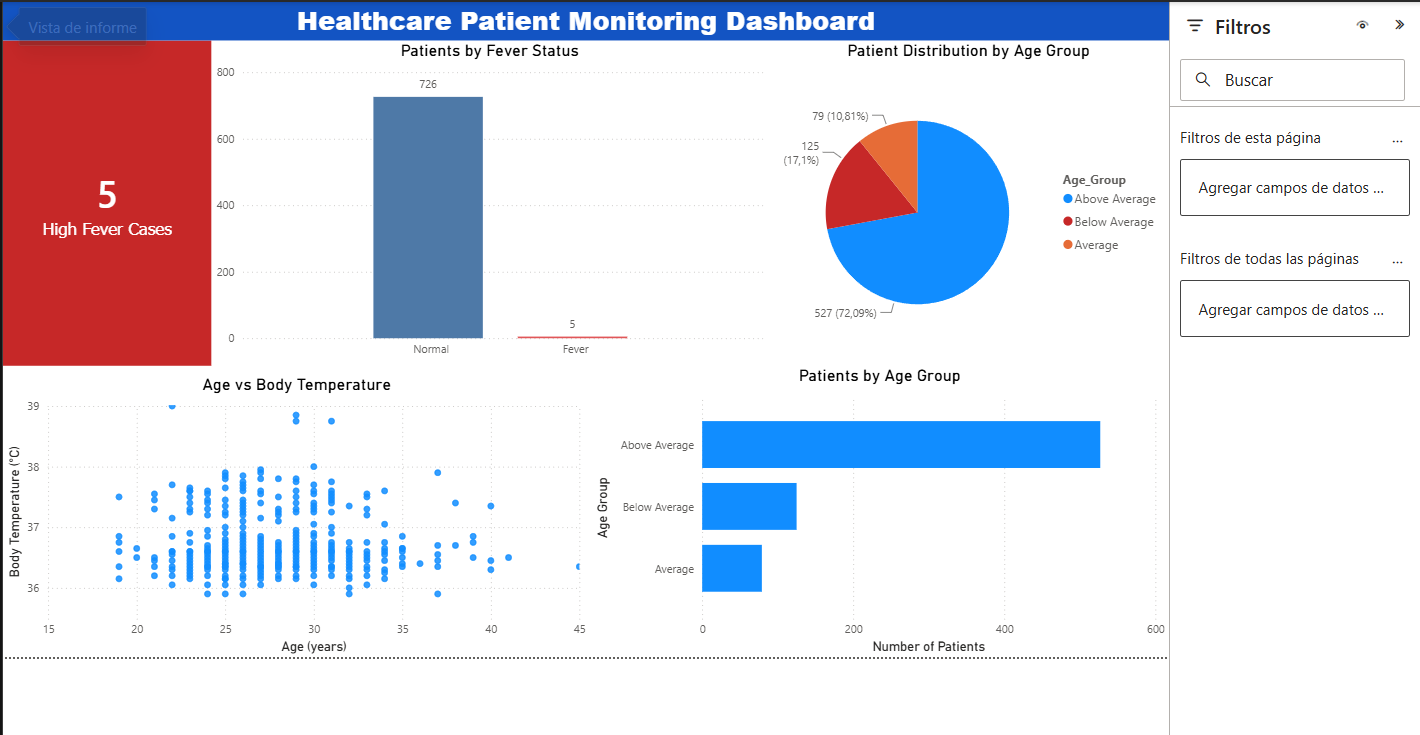

The dashboard page shown, as its layout file describes it:
{"tool":"powerbi","page":{"name":"Monitoring","canvas":[1280,720],"ordinal":0},"visuals":[{"type":"textbox","title":"Healthcare Patient Monitoring Dashboard","box":[0,0,1280.3,42.5],"z":0},{"type":"cardVisual","fields":{"Data":["Sheet1.High Fever Cases"]},"box":[0,42.5,229.2,356.8],"z":1000},{"type":"columnChart","title":"Patients by Fever Status","fields":{"Category":["Sheet1.Fever Status"],"Y":["CountNonNull(Sheet1.Patient_ID)"]},"box":[229.2,42.5,610.6,356.8],"z":2000},{"type":"pieChart","title":"Patient Distribution by Age Group","fields":{"Category":["Sheet1.Age_Group"],"Y":["CountNonNull(Sheet1.Patient_ID)"]},"box":[839.8,42.5,440.5,356.8],"z":3000},{"type":"scatterChart","title":"Age vs Body Temperature","fields":{"X":["Sheet1.Age"],"Y":["Sheet1.Average_Temperature"]},"box":[0,408.9,644.9,311.5],"z":4000},{"type":"clusteredBarChart","title":"Patients by Age Group","fields":{"Category":["Sheet1.Age_Group"],"Y":["CountNonNull(Sheet1.Patient_ID)"]},"box":[644.9,399.3,635.3,321.1],"z":6000}]}

Visuals, with their boxes on the page's 1280x720 design canvas (x1, y1, x2, y2). These are canvas units, not pixel positions in the 1420x735 screenshot, which may show the page scaled, cropped or inside an application window:
"Healthcare Patient Monitoring Dashboard" textbox: (left=0, top=0, right=1280, bottom=42)
cardVisual - Sheet1.High Fever Cases: (left=0, top=42, right=229, bottom=399)
"Patients by Fever Status" columnChart: (left=229, top=42, right=840, bottom=399)
"Patient Distribution by Age Group" pieChart: (left=840, top=42, right=1280, bottom=399)
"Age vs Body Temperature" scatterChart: (left=0, top=409, right=645, bottom=720)
"Patients by Age Group" clusteredBarChart: (left=645, top=399, right=1280, bottom=720)
